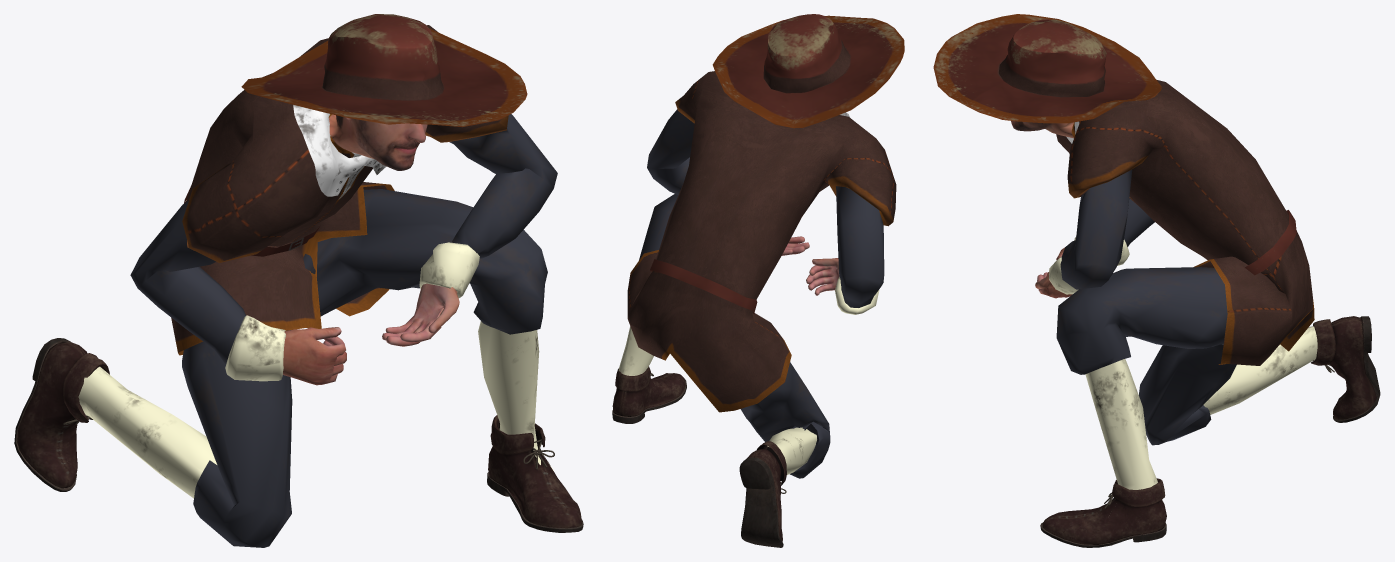
The model's file is CanonCrouchSoldierSample.fbx.
3 renders of one model, left to right at view 1: azimuth 30°, elevation 25°; view 2: azimuth 150°, elevation 25°; view 3: azimuth 270°, elevation 25°, orthographic. The views are drawn at different scales.
Visible parts, largest first — view 1: CanonCrouchSoldierLOD0; view 2: CanonCrouchSoldierLOD0; view 3: CanonCrouchSoldierLOD0.
Boxes of the visible parts, x1,y1,x2,y2 form: CanonCrouchSoldierLOD0: (14,14,583,547); CanonCrouchSoldierLOD0: (612,14,904,547); CanonCrouchSoldierLOD0: (933,14,1380,547).
Size of what is drawn, in the model's own units: 82.9 by 114 by 104.
